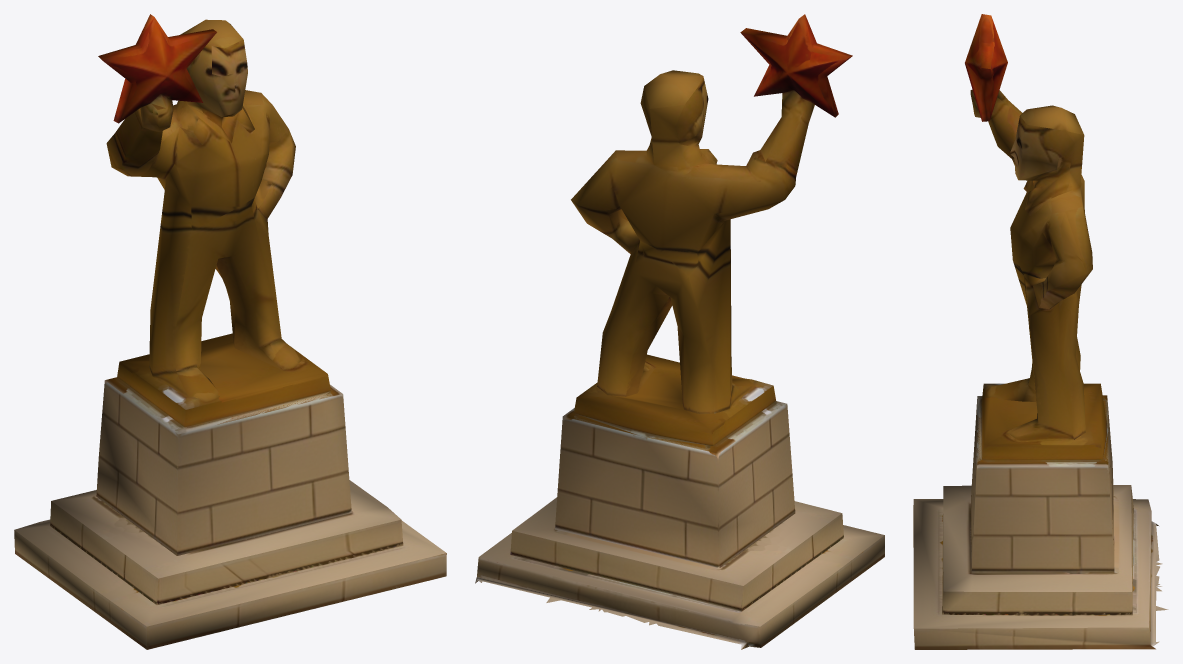
The model's file is gerda.fbx.
3 views of the same model, side by side, from view 1: azimuth 30°, elevation 25°; view 2: azimuth 150°, elevation 25°; view 3: azimuth 270°, elevation 25° (orthographic). The views are drawn at different scales.
Visible parts, largest first — view 1: tmppv4y9bym.ply; view 2: tmppv4y9bym.ply; view 3: tmppv4y9bym.ply.
Boxes of the visible parts, left/top/right/bottom form: tmppv4y9bym.ply: left=14, top=14, right=446, bottom=649; tmppv4y9bym.ply: left=475, top=14, right=884, bottom=649; tmppv4y9bym.ply: left=913, top=14, right=1168, bottom=649.
Bounding box in the file's own units: 107 × 199 × 87.37.
Materials: 1 (1 with a texture image).
